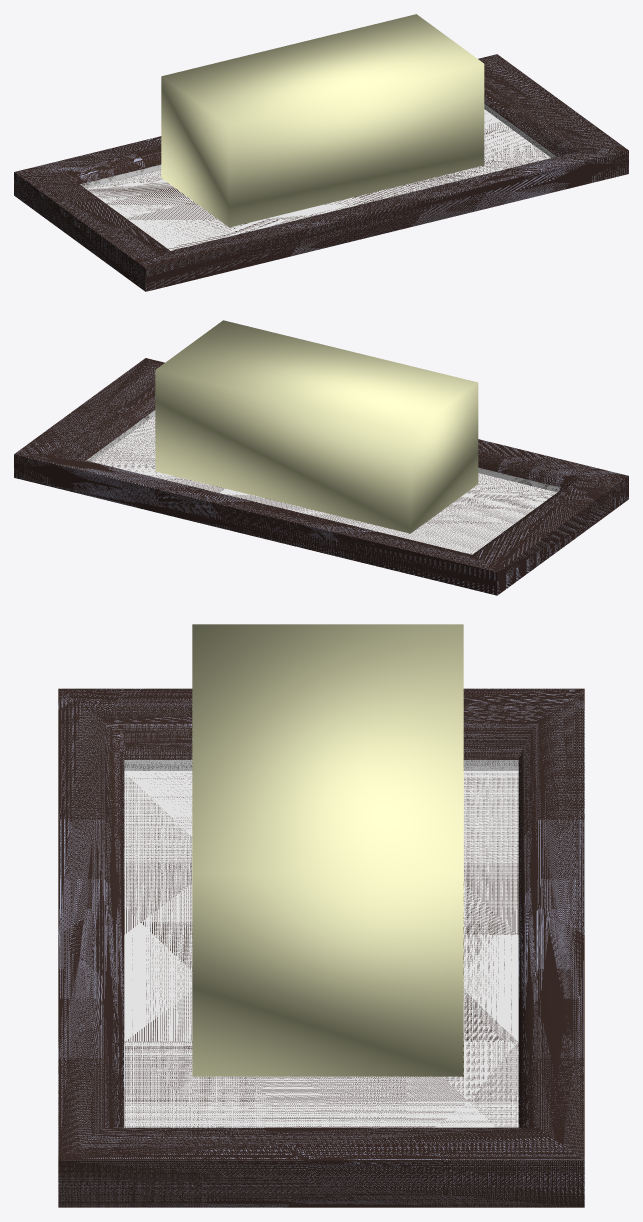
The model's file is butter.dae.
3 renders of one model, top to bottom at view 1: azimuth 30°, elevation 25°; view 2: azimuth 150°, elevation 25°; view 3: azimuth 270°, elevation 25°, orthographic. The views are drawn at different scales.
Visible parts, largest first — view 1: box, SketchUp (×3); view 2: box, SketchUp (×3); view 3: SketchUp (×3), box.
Boxes of the visible parts, left/top/right/bottom form: box: left=161, top=14, right=484, bottom=227; SketchUp (×3): left=14, top=54, right=628, bottom=291; box: left=155, top=320, right=478, bottom=533; SketchUp (×3): left=14, top=358, right=628, bottom=595; SketchUp (×3): left=58, top=688, right=584, bottom=1207; box: left=192, top=624, right=463, bottom=1076.
Bounding box in the file's own units: 249 × 117 × 55.53.
